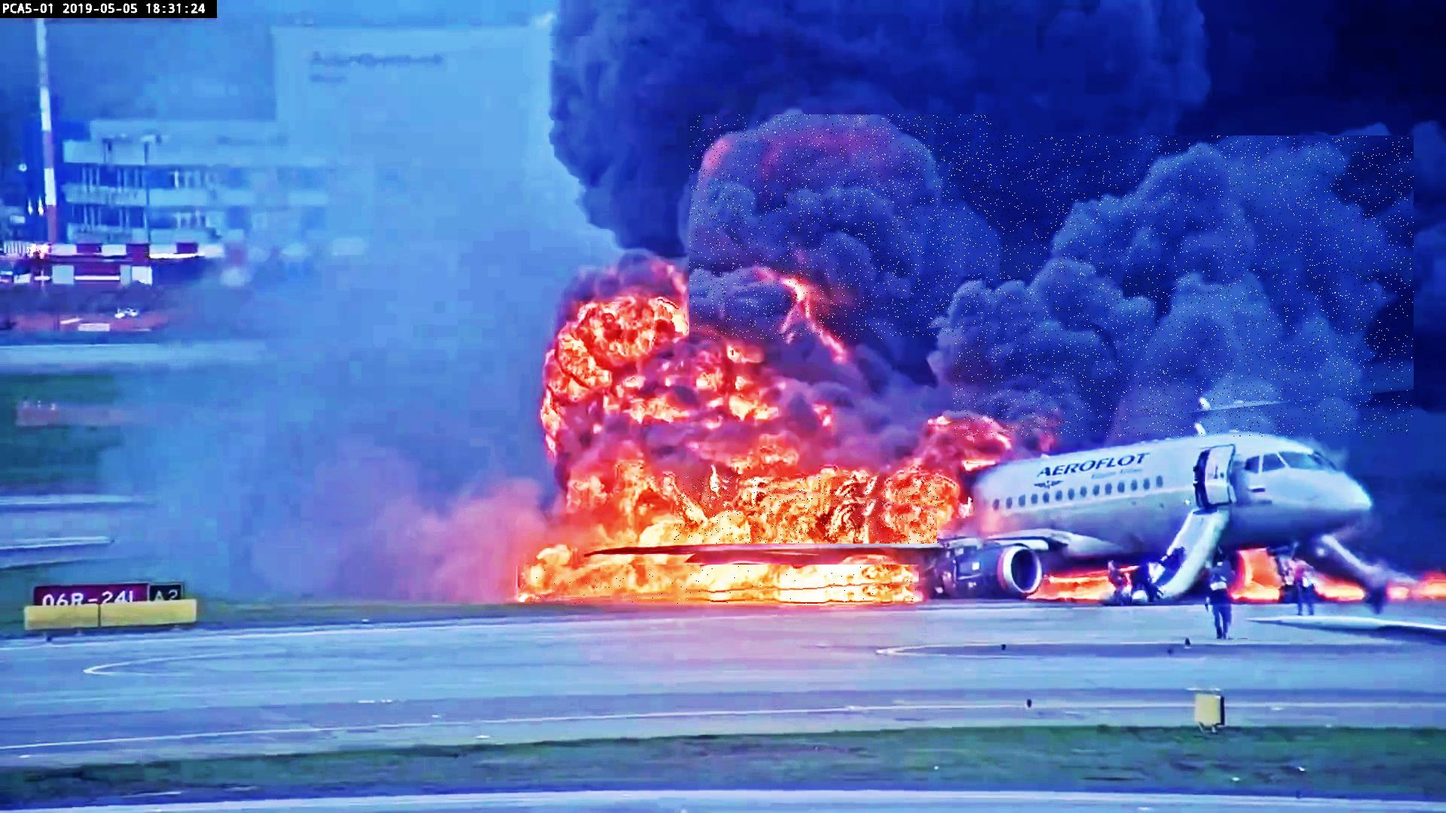fire: (675, 477, 939, 544), (536, 565, 921, 604)
smoke: (953, 136, 1414, 437), (690, 115, 993, 339)
